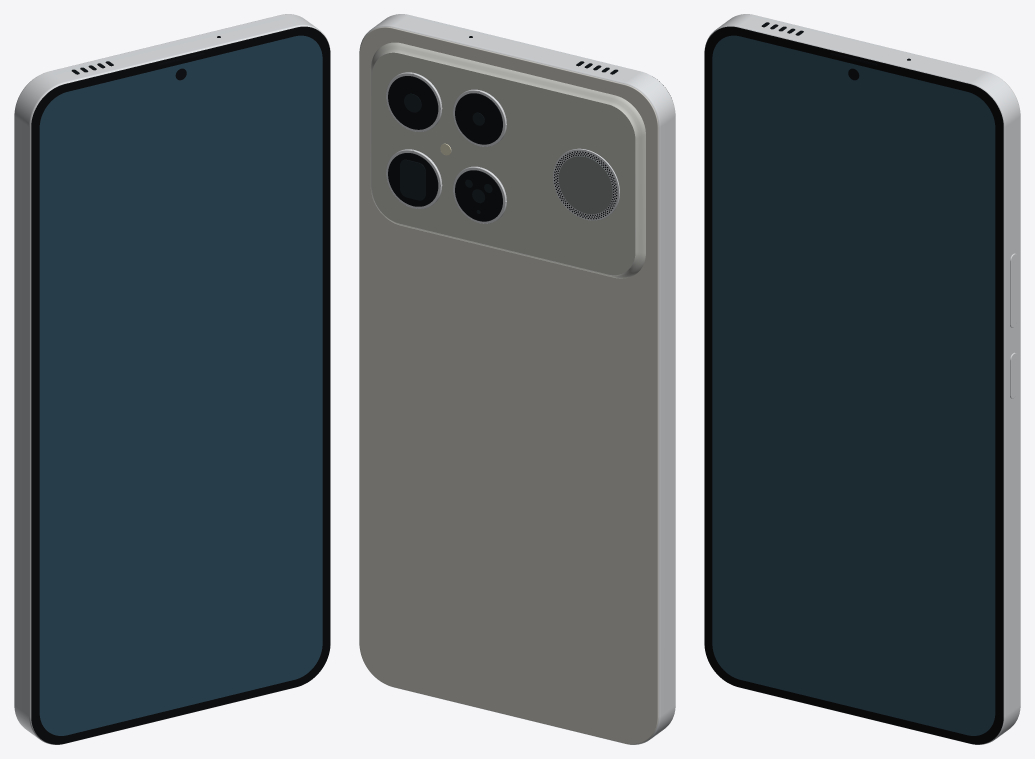
The model's file is portrait.glb.
The picture shows the model from 3 angles, left to right: view 1: azimuth 30°, elevation 25°; view 2: azimuth 150°, elevation 25°; view 3: azimuth 330°, elevation 25°; orthographic projection.
Visible parts, largest first — view 1: screen_main_content, chassis_unibody, screen_bezel; view 2: back_glass_fiber, camera_volcano_platform, chassis_unibody, camera_lens_glass, woofer_center, camera_lens_rings, woofer_outer_rim, periscope_window, rear_speaker_perforations; view 3: screen_main_content, screen_bezel, chassis_unibody, side_buttons.
Boxes of the visible parts, x1,y1,x2,y2 form: screen_main_content: [39, 35, 322, 735]; chassis_unibody: [14, 14, 330, 744]; screen_bezel: [31, 26, 330, 744]; back_glass_fiber: [359, 27, 658, 744]; camera_volcano_platform: [370, 42, 645, 278]; chassis_unibody: [359, 14, 675, 744]; camera_lens_glass: [388, 76, 502, 221]; woofer_center: [558, 156, 612, 214]; camera_lens_rings: [386, 72, 506, 223]; woofer_outer_rim: [552, 148, 619, 220]; periscope_window: [400, 159, 425, 200]; rear_speaker_perforations: [554, 151, 617, 219]; screen_main_content: [712, 35, 995, 735]; screen_bezel: [704, 26, 1003, 744]; chassis_unibody: [704, 14, 1020, 744]; side_buttons: [1010, 253, 1016, 398].
Bounding box in the file's own units: 0.0781 × 0.1636 × 0.011.
